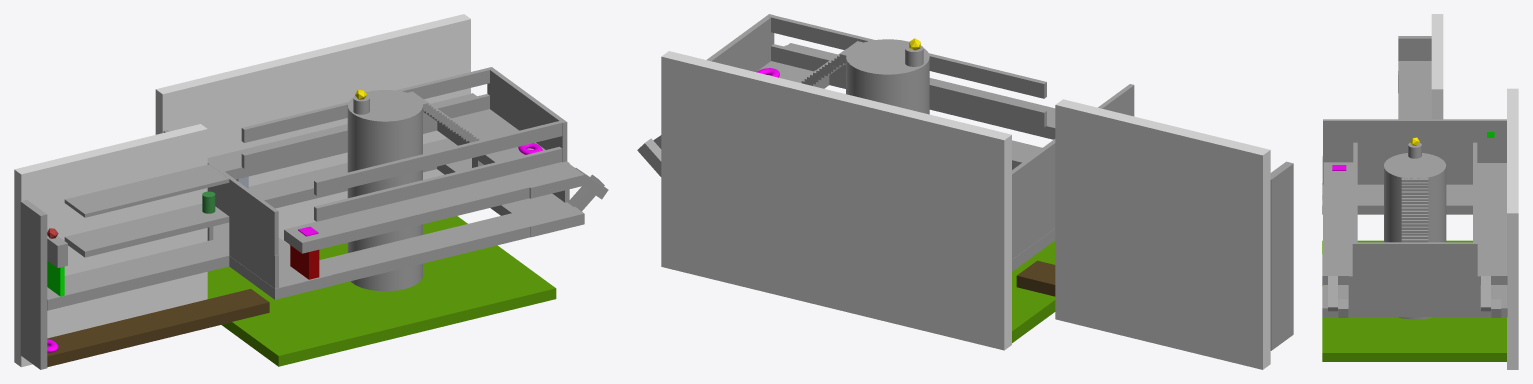
Rendered from Stage_GD.fbx.
3 views of the same model, side by side, from view 1: azimuth 30°, elevation 25°; view 2: azimuth 150°, elevation 25°; view 3: azimuth 270°, elevation 25° (orthographic). The views are drawn at different scales.
Visible parts, largest first — view 1: pCube19, pCube15, pCube4, pCylinder2, pCube13, pCube7, pCube10, pCube2, pCube6, pCube67, pCube35, pCube23 (+14 smaller); view 2: pCube19, pCube4, pCylinder2, pCube6, pCube67, pCube35, pCube26, pCube13, pCube15, pCube65, pCube27, pCube7 (+2 smaller); view 3: pCube15, pCube26, pCube64, pCube65, pCylinder2, pCube19, pCube13, pCube12, pCube25, pCube14, pCube11, pCube4 (+14 smaller).
Boxes of the visible parts, <box> form: pCube19: <box>155,14,470,244</box>; pCube15: <box>207,216,556,366</box>; pCube4: <box>14,124,207,367</box>; pCylinder2: <box>347,90,422,291</box>; pCube13: <box>284,174,534,253</box>; pCube7: <box>47,289,269,367</box>; pCube10: <box>319,213,530,285</box>; pCube2: <box>47,238,229,310</box>; pCube6: <box>20,200,47,369</box>; pCube67: <box>314,120,564,195</box>; pCube35: <box>314,146,562,221</box>; pCube23: <box>64,203,229,257</box>; pCube19: <box>661,51,1011,350</box>; pCube4: <box>1055,99,1270,369</box>; pCylinder2: <box>846,39,929,114</box>; pCube6: <box>1270,161,1293,350</box>; pCube67: <box>768,14,1046,98</box>; pCube35: <box>771,44,1046,127</box>; pCube26: <box>1012,84,1134,222</box>; pCube13: <box>829,75,1055,139</box>; pCube15: <box>1012,240,1055,342</box>; pCube65: <box>707,14,774,71</box>; pCube27: <box>1012,192,1055,259</box>; pCube7: <box>1016,260,1055,296</box>; pCube15: <box>1322,240,1506,361</box>; pCube26: <box>1323,119,1506,157</box>; pCube64: <box>1348,276,1480,312</box>; pCube65: <box>1352,242,1477,277</box>; pCylinder2: <box>1384,153,1446,319</box>; pCube19: <box>1507,88,1518,369</box>; pCube13: <box>1323,162,1353,256</box>; pCube12: <box>1477,163,1506,255</box>; pCube25: <box>1398,61,1431,119</box>; pCube14: <box>1322,254,1507,284</box>; pCube11: <box>1322,286,1507,317</box>; pCube4: <box>1431,14,1443,119</box>.
Size of the model in its own units: 51.29 by 18.94 by 19.9.
